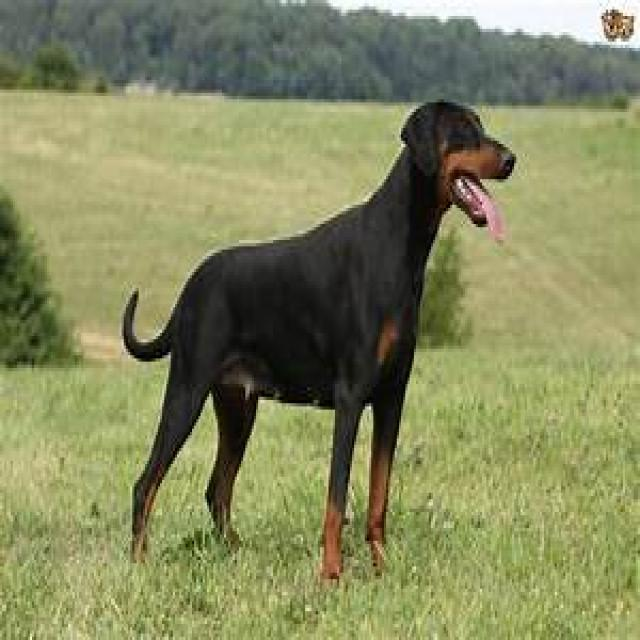KOPEK: (119, 85, 523, 572)
